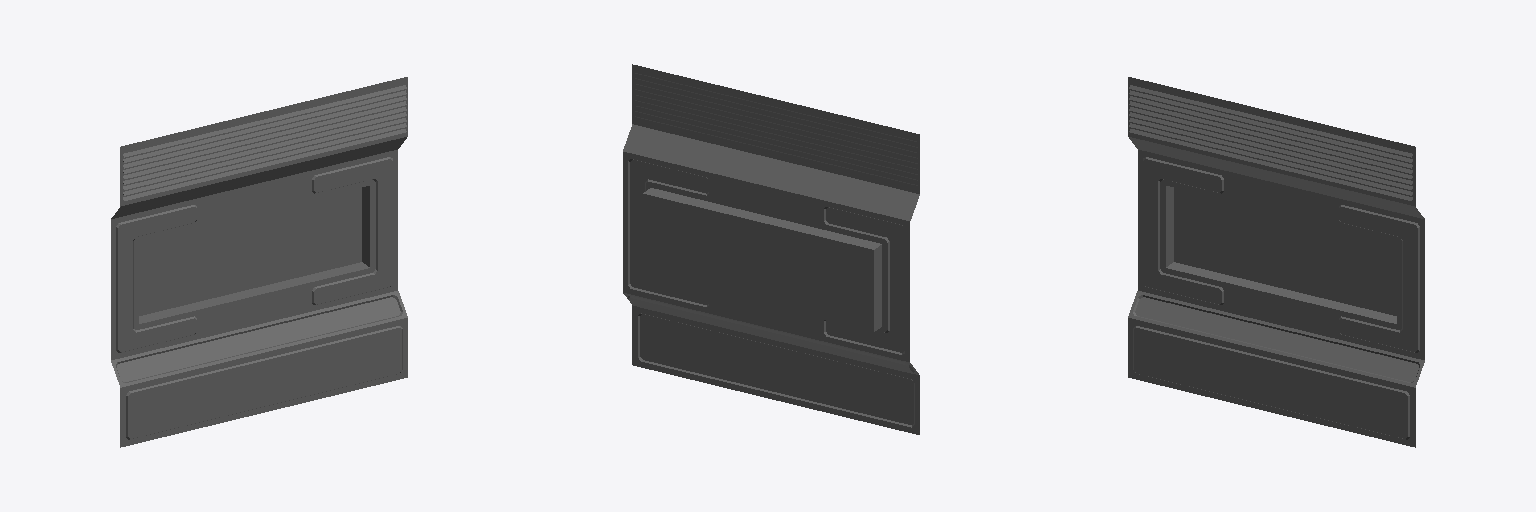
The model's file is Wall01_HP.obj.
3 renders of one model, left to right at view 1: azimuth 30°, elevation 25°; view 2: azimuth 150°, elevation 25°; view 3: azimuth 330°, elevation 25°, orthographic.
Visible parts, largest first — view 1: Plane001; view 2: Plane001; view 3: Plane001.
Part boxes in pixels (x1,y1,x2,y2): Plane001: (111,77,407,447); Plane001: (623,64,919,434); Plane001: (1128,77,1424,447).
Bounding box in the file's own units: 512 × 512 × 58.69.